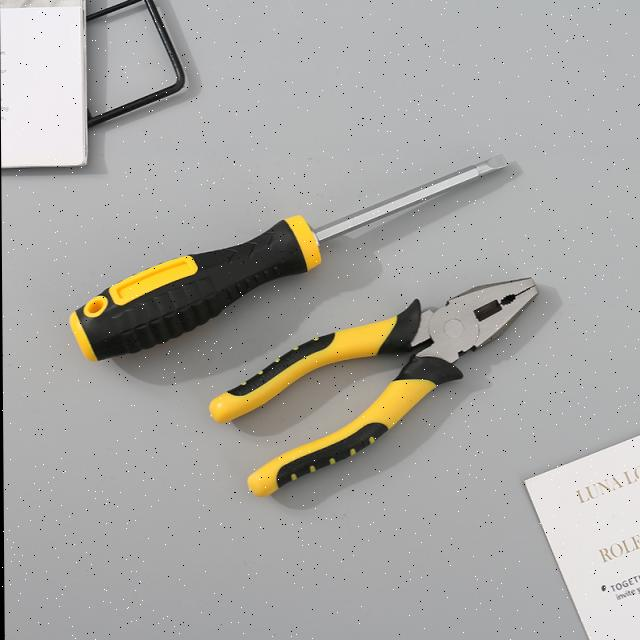Screwdriver: (69, 155, 506, 361)
